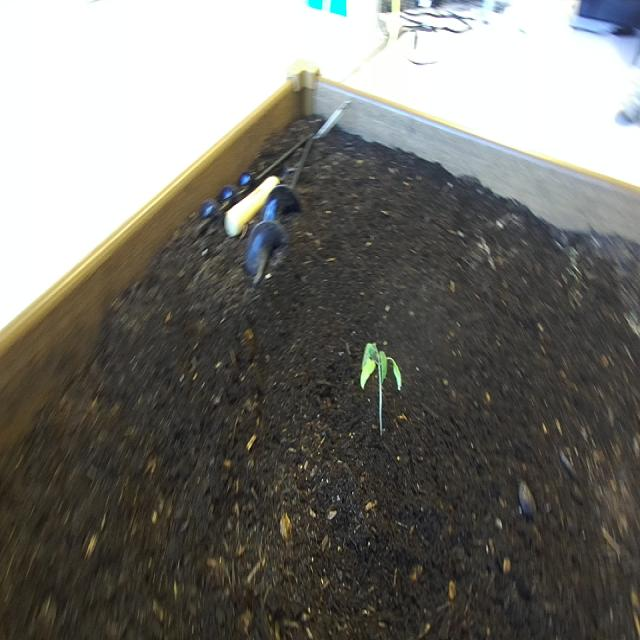Healthy: (358, 337, 406, 446)
